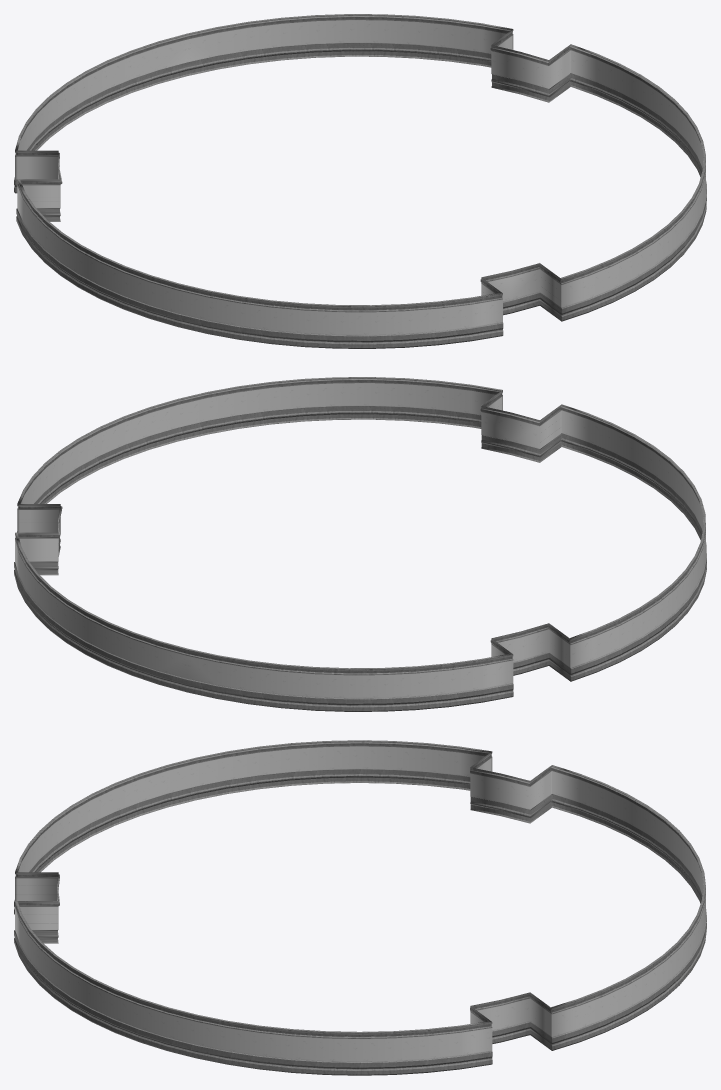
The model's file is CentralArea_WallsBottom.fbx.
3 views of the same model, one above another, from view 1: azimuth 30°, elevation 25°; view 2: azimuth 150°, elevation 25°; view 3: azimuth 270°, elevation 25° (orthographic).
Parts seen in each view (by area): view 1: CentralArea_WallsBottom; view 2: CentralArea_WallsBottom; view 3: CentralArea_WallsBottom.
Boxes of the visible parts, left/top/right/bottom form: CentralArea_WallsBottom: left=14, top=14, right=706, bottom=348; CentralArea_WallsBottom: left=14, top=377, right=706, bottom=711; CentralArea_WallsBottom: left=14, top=740, right=706, bottom=1075.
Bounding box in the file's own units: 60.44 × 4.1 × 60.29.
